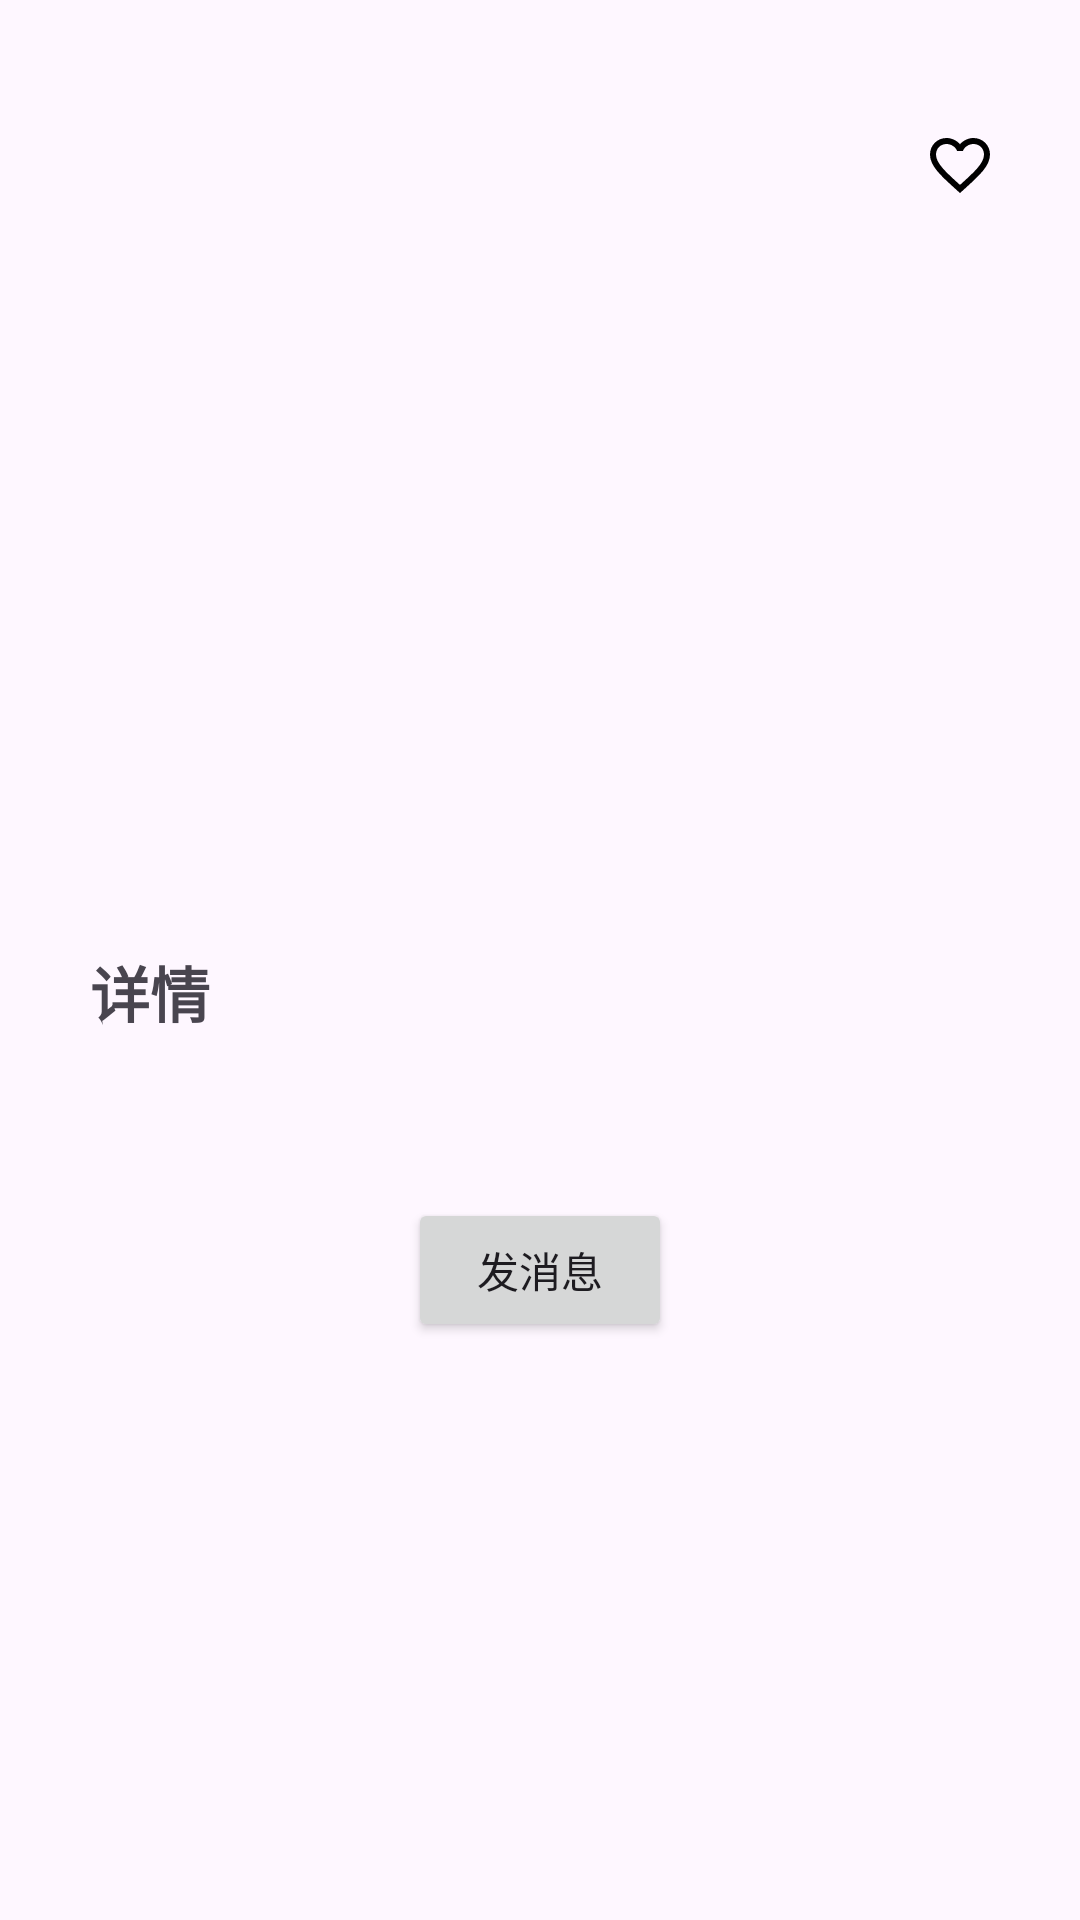

Named icons in this screenshot (1080px x 1920px) and their centers, [x,y]:
favorite: [960,165]
